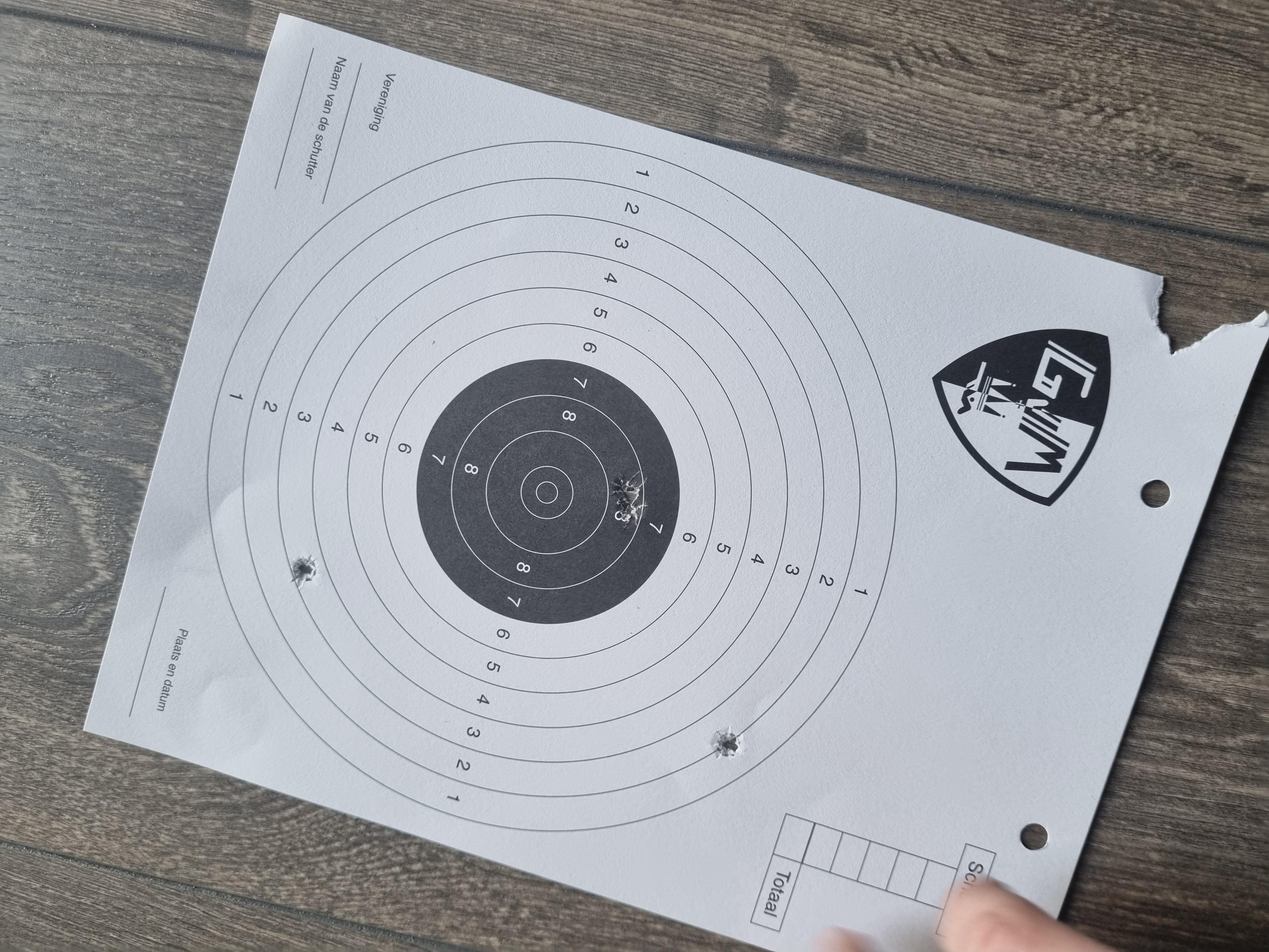hole: (486, 218, 530, 237), (600, 458, 635, 481), (563, 464, 601, 484), (259, 536, 293, 555)
